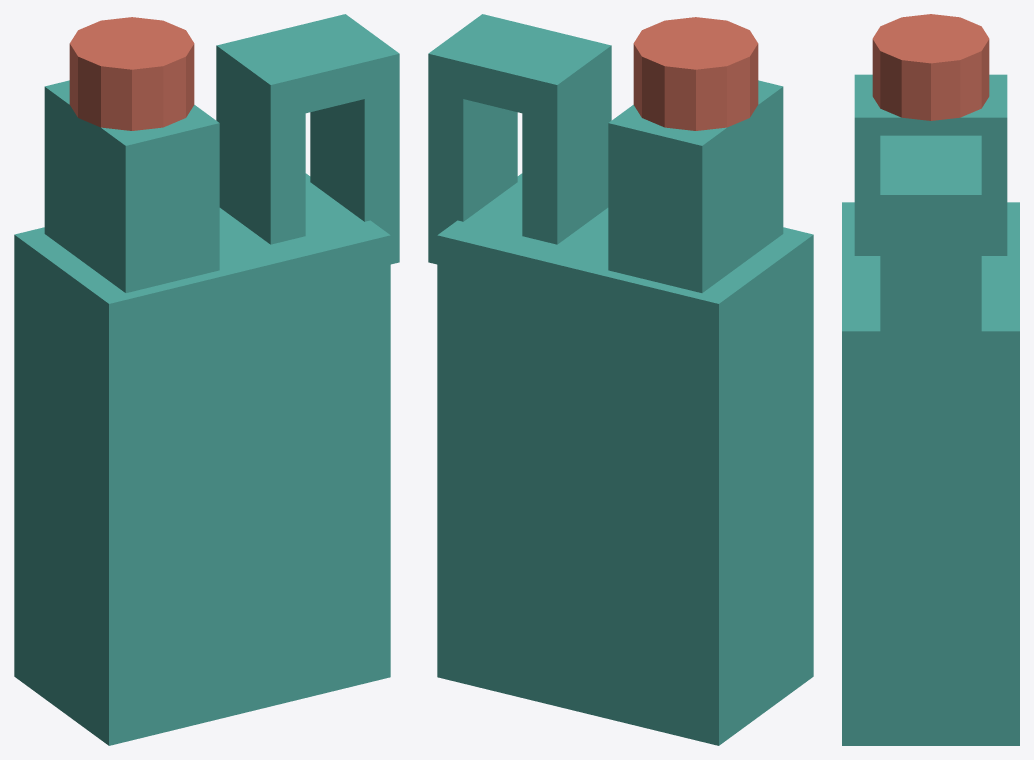
File: supermarket-operations-detergent-bottle-18328bff__26936.glb
3 views of the same model, side by side, from view 1: azimuth 30°, elevation 25°; view 2: azimuth 150°, elevation 25°; view 3: azimuth 270°, elevation 25° (orthographic). The views are drawn at different scales.
Parts seen in each view (by area): view 1: detergent-bottle; view 2: detergent-bottle; view 3: detergent-bottle.
Part boxes in pixels (<box>): detergent-bottle: <box>14,14,399,745</box>; detergent-bottle: <box>428,14,813,745</box>; detergent-bottle: <box>842,14,1019,745</box>.
Bounding box in the file's own units: 0.1325 × 0.265 × 0.07.
